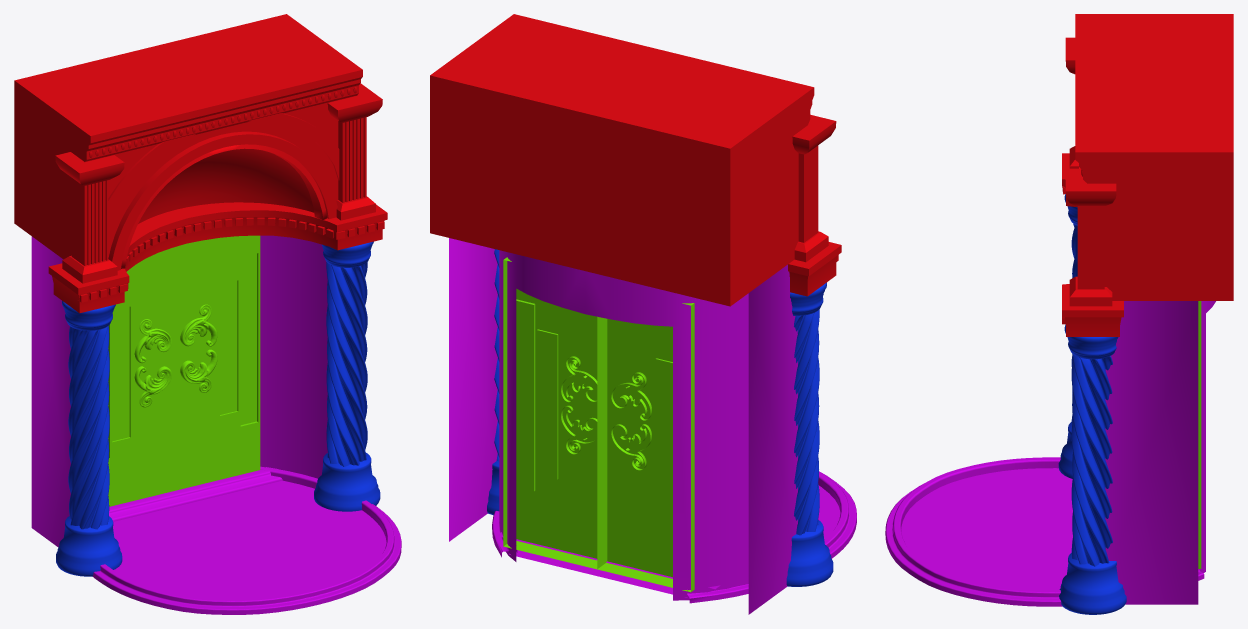
File: SM_midtunnel.fbx
3 views of the same model, side by side, from view 1: azimuth 30°, elevation 25°; view 2: azimuth 150°, elevation 25°; view 3: azimuth 270°, elevation 25° (orthographic). The views are drawn at different scales.
Parts seen in each view (by area): view 1: midbody_low, door_low, floor_low, midwall_low, body_low, toppillor_low, acc01_low, under_low, dooracc_low, topACC_low, midf_low, dol_low (+1 smaller); view 2: midbody_low, midwall_low, door_low, body_low, floor_low, toppillor_low, under_low, dooracc_low, acc01_low, top_low; view 3: midbody_low, midwall_low, floor_low, body_low, toppillor_low, under_low, acc01_low, top_low, door_low.
Boxes of the visible parts, x1,y1,x2,y2 form: midbody_low: (14,14,362,270); door_low: (108,235,260,506); floor_low: (92,466,401,614); midwall_low: (31,235,327,547); body_low: (68,262,367,529); toppillor_low: (55,83,382,283); acc01_low: (48,202,387,313); under_low: (56,452,380,576); dooracc_low: (134,304,217,407); topACC_low: (89,87,356,268); midf_low: (109,467,282,521); dol_low: (78,217,384,302); midbody_low: (430,14,814,306); midwall_low: (449,238,797,614); door_low: (503,257,694,592); body_low: (494,249,819,535); floor_low: (492,471,856,603); toppillor_low: (792,114,836,262); under_low: (487,461,833,586); dooracc_low: (561,356,651,470); acc01_low: (788,242,841,296); top_low: (790,282,826,315); midbody_low: (1075,14,1233,300); midwall_low: (1105,301,1215,604); floor_low: (885,457,1204,606); body_low: (1071,224,1112,566); toppillor_low: (1065,37,1116,306); under_low: (1058,422,1126,614); acc01_low: (1062,153,1123,336); top_low: (1064,194,1118,359); door_low: (1198,301,1201,568).
Bounding box in the file's own units: 978 × 1289 × 899.
